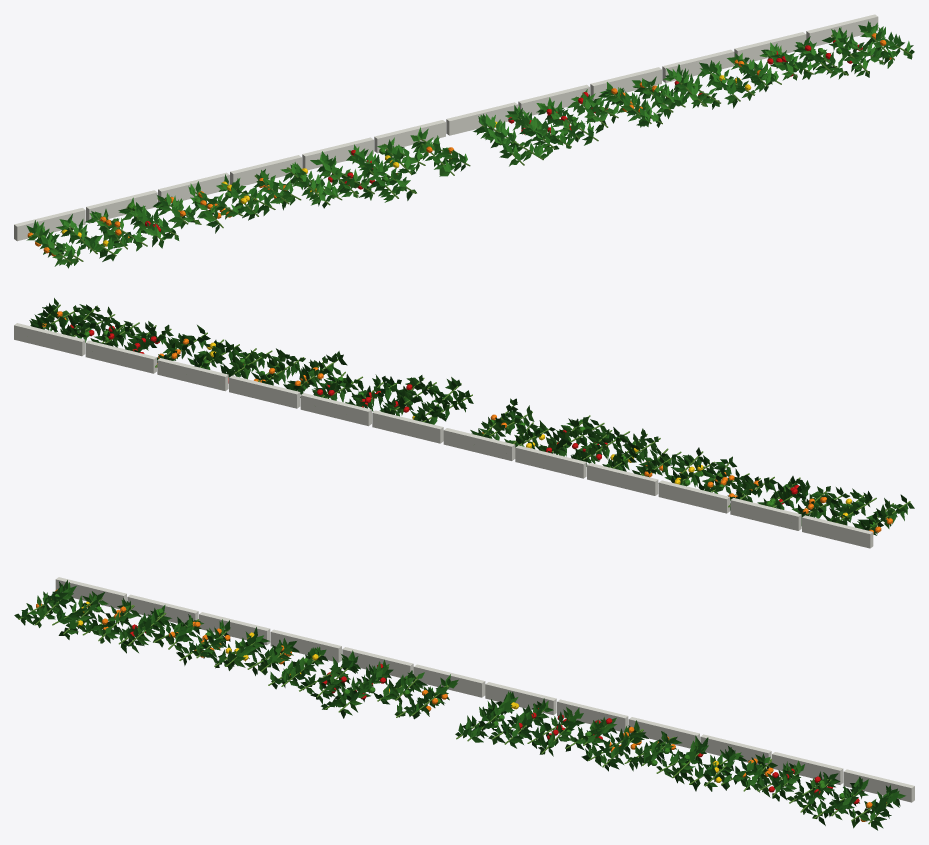
The model's file is row20.obj.
3 renders of one model, top to bottom at view 1: azimuth 30°, elevation 25°; view 2: azimuth 150°, elevation 25°; view 3: azimuth 330°, elevation 25°, orthographic.
Parts seen in each view (by area): view 1: row20; view 2: row20; view 3: row20.
Boxes of the visible parts, box(x1,y1,x2,y2) form: row20: box(14, 14, 914, 268); row20: box(14, 298, 914, 548); row20: box(14, 577, 914, 830).
Size of the model in its own units: 12.55 by 0.4229 by 1.5.
